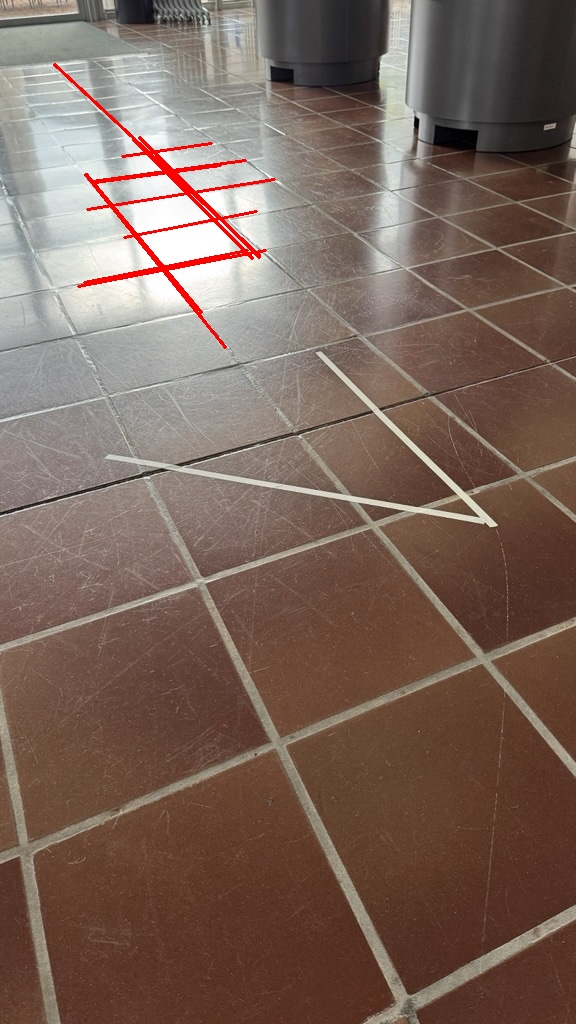line: (316, 350, 497, 525), (105, 454, 484, 524)
